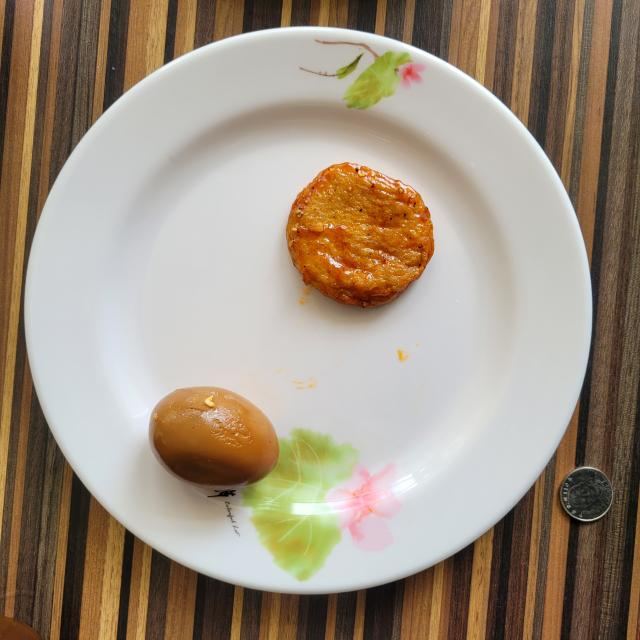coin: (560, 466, 614, 521)
fish cake: (286, 162, 434, 308)
soy egg: (149, 386, 279, 489)
